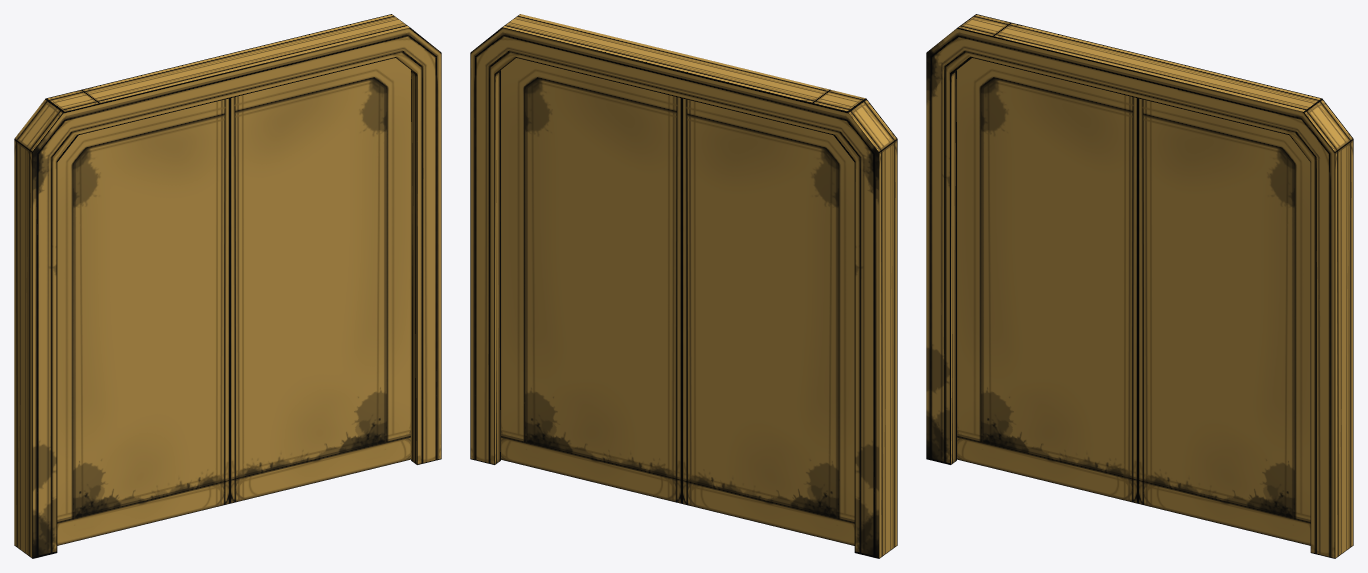
Rendered from Door3.fbx.
The picture shows the model from 3 angles, left to right: view 1: azimuth 30°, elevation 25°; view 2: azimuth 150°, elevation 25°; view 3: azimuth 330°, elevation 25°; orthographic projection.
Visible parts, largest first — view 1: Plane.002, Plane.001, Plane; view 2: Plane.002, Plane.001, Plane; view 3: Plane.001, Plane.002, Plane.
Boxes of the visible parts, bbox=[...] form: Plane.002: bbox=[230, 58, 410, 503]; Plane.001: bbox=[57, 98, 229, 545]; Plane: bbox=[14, 14, 441, 558]; Plane.002: bbox=[501, 58, 681, 503]; Plane.001: bbox=[682, 98, 854, 545]; Plane: bbox=[470, 14, 897, 558]; Plane.001: bbox=[957, 58, 1137, 503]; Plane.002: bbox=[1138, 98, 1310, 545]; Plane: bbox=[926, 14, 1353, 558].
Size of the model in its own units: 920 by 944 by 72.26.
